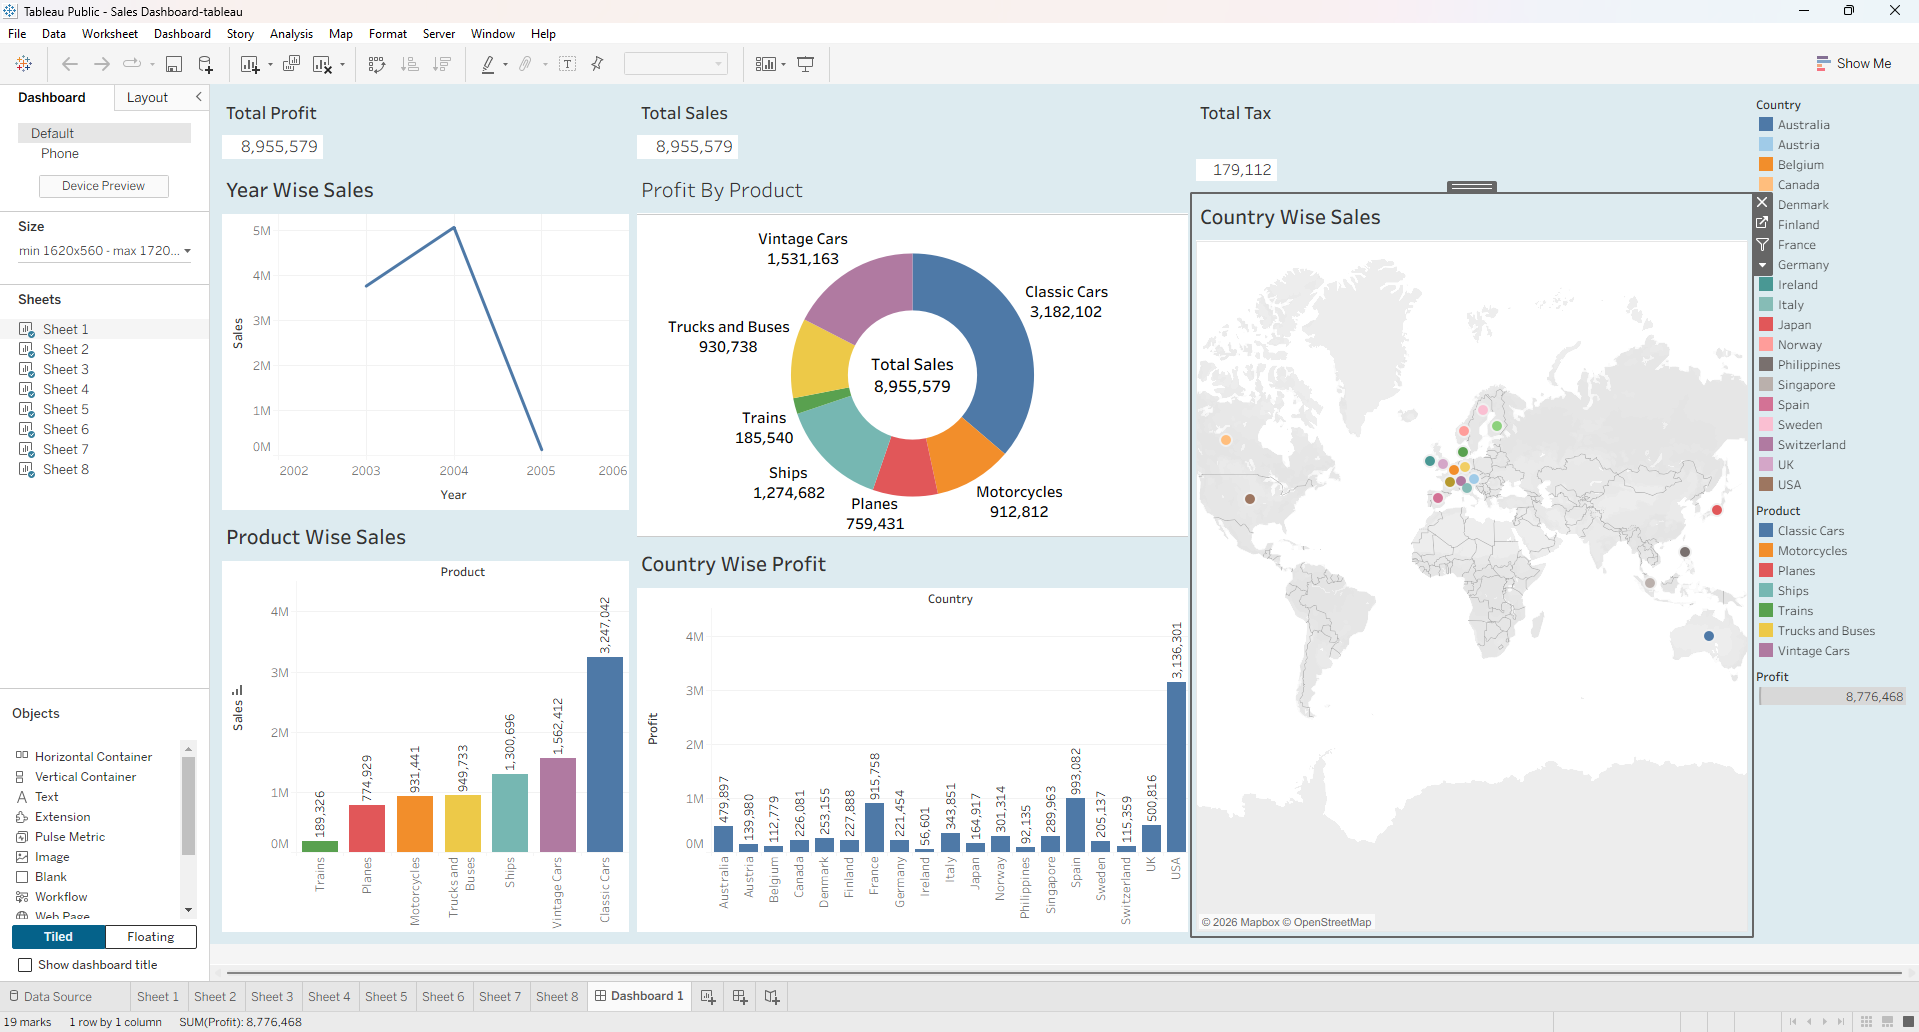

This screenshot's page, from the dashboard's own definition file:
{"tool":"tableau","page":{"name":"Dashboard 1","canvas":[1000,1000],"units":"permille","ordinal":0},"visuals":[{"type":"worksheet","title":"Sheet 7","mark":"Automatic","box":[4.7,9.3,242.5,87.2]},{"type":"worksheet","title":"Sheet 6","mark":"Automatic","box":[247.2,9.3,327.3,87.2]},{"type":"worksheet","title":"Sheet 8","mark":"Automatic","box":[574.5,9.3,327.3,118.6]},{"type":"legend","title":"Sheet 1","param":"[federated.1pr1ui20nya2hv16l8xs20pylm2k].[none:COUNTRY:nk]","box":[901.8,9.3,93.6,472.1]},{"type":"worksheet","title":"Sheet 5","mark":"Automatic","rows":["SALES"],"cols":["Year"],"box":[4.7,96.5,242.5,403.5]},{"type":"worksheet","title":"Sheet 4","mark":"Pie","cols":["Calculation_1590458265915393","Calculation_1590458265915393"],"box":[247.2,96.5,327.3,434.9]},{"type":"worksheet","title":"Sheet 1","mark":"Automatic","box":[574.5,127.9,327.3,862.8]},{"type":"legend","title":"Sheet 2","param":"[federated.1pr1ui20nya2hv16l8xs20pylm2k].[none:Product:nk]","box":[901.8,481.4,93.6,193]},{"type":"worksheet","title":"Sheet 2","mark":"Automatic","rows":["SALES"],"cols":["Product"],"box":[4.7,500,242.5,490.7]},{"type":"worksheet","title":"Sheet 3","mark":"Automatic","rows":["Profit"],"cols":["COUNTRY"],"box":[247.2,531.4,327.3,459.3]},{"type":"legend","title":"Sheet 4","param":"[federated.1pr1ui20nya2hv16l8xs20pylm2k].[sum:Profit:qk]","box":[901.8,674.4,93.6,53.5]}]}

Visuals, with their boxes on the dashboard's canvas, which has no fixed pixel size, in thousandths of its width and height (x1, y1, x2, y2). These are canvas units, not pixel positions in the 1919x1032 screenshot, which may show the page scaled, cropped or inside an application window:
"Sheet 7" worksheet: crop(5, 9, 247, 96)
"Sheet 6" worksheet: crop(247, 9, 574, 96)
"Sheet 8" worksheet: crop(574, 9, 902, 128)
"Sheet 1" legend: crop(902, 9, 995, 481)
"Sheet 5" worksheet: crop(5, 96, 247, 500)
"Sheet 4" worksheet (Pie marks): crop(247, 96, 574, 531)
"Sheet 1" worksheet: crop(574, 128, 902, 991)
"Sheet 2" legend: crop(902, 481, 995, 674)
"Sheet 2" worksheet: crop(5, 500, 247, 991)
"Sheet 3" worksheet: crop(247, 531, 574, 991)
"Sheet 4" legend: crop(902, 674, 995, 728)
